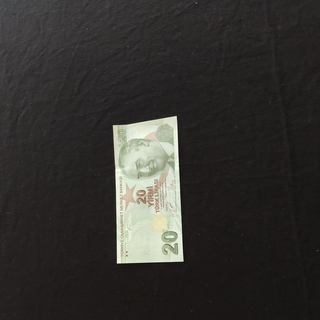20TLFront: (111, 116, 184, 263)
